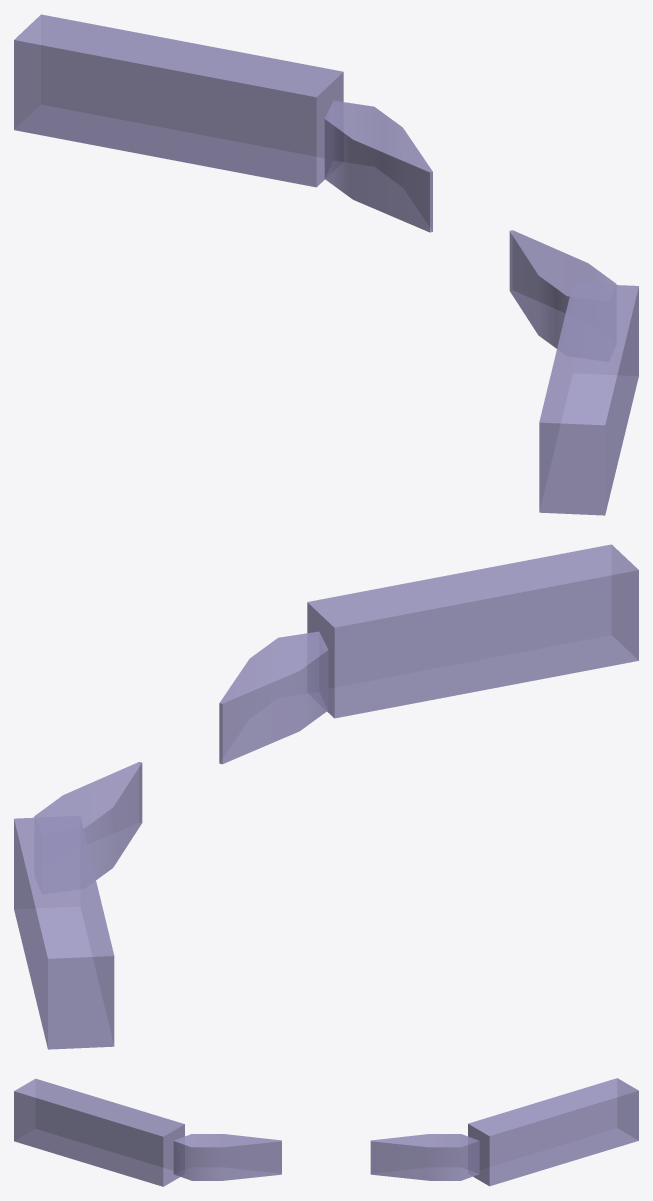
File: pinball paddles.fbx
The picture shows the model from 3 angles, top to bottom: view 1: azimuth 30°, elevation 25°; view 2: azimuth 150°, elevation 25°; view 3: azimuth 270°, elevation 25°; orthographic projection. The views are drawn at different scales.
Parts seen in each view (by area): view 1: pCube6, pCube5; view 2: pCube5, pCube6; view 3: pCube6, pCube5.
Boxes of the visible parts, x1=… form: pCube6: x1=14, y1=14, x2=432, y2=232; pCube5: x1=509, y1=230, x2=638, y2=515; pCube5: x1=219, y1=544, x2=638, y2=764; pCube6: x1=14, y1=762, x2=142, y2=1049; pCube6: x1=370, y1=1078, x2=638, y2=1186; pCube5: x1=14, y1=1078, x2=281, y2=1186.
Size of the model in its own units: 3.83 by 1.5 by 16.95.
